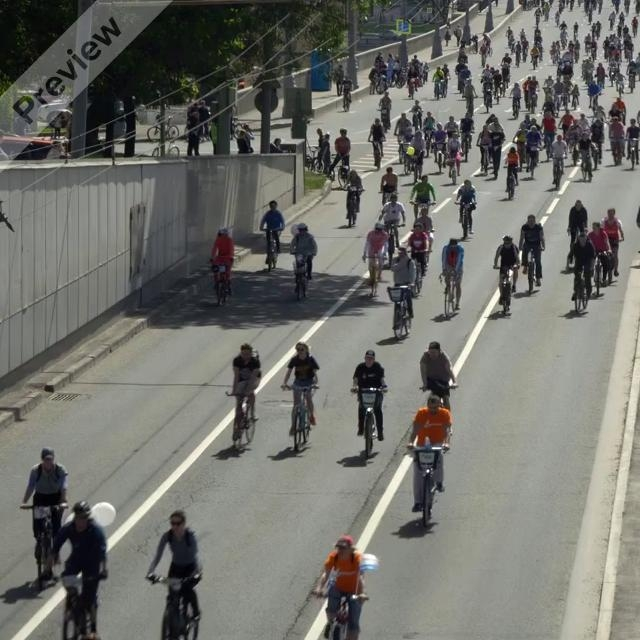bicycle: (19, 502, 68, 592), (145, 571, 202, 639), (52, 570, 107, 639), (406, 443, 449, 527), (311, 586, 368, 639), (280, 383, 319, 452), (350, 385, 387, 457), (418, 383, 458, 446), (225, 389, 258, 452), (386, 284, 415, 340), (493, 264, 519, 316), (439, 267, 462, 318), (521, 245, 544, 296), (209, 258, 233, 305), (381, 222, 405, 268), (362, 252, 386, 298), (408, 250, 432, 296), (289, 252, 311, 300), (571, 265, 591, 314), (454, 199, 476, 240), (262, 227, 282, 272), (345, 186, 365, 228), (503, 165, 520, 200)
